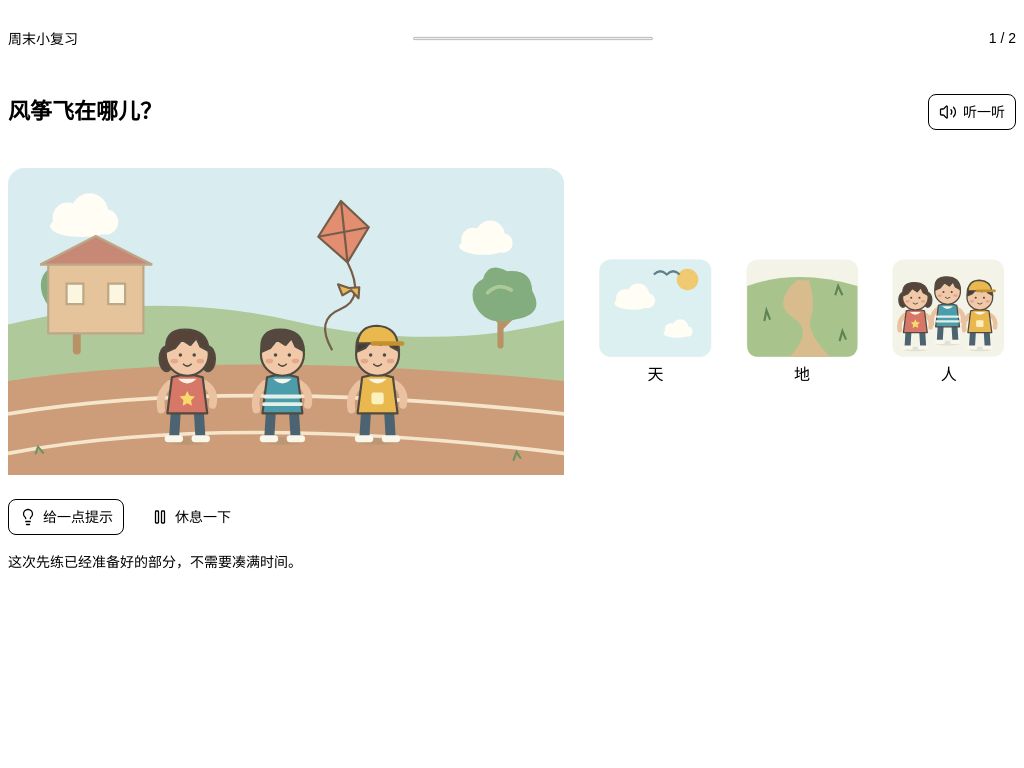
picture-led review state › preserves the idempotency key after a lost answer response
This screenshot has width=1024, height=768.
Click the button "地". click: [802, 321]
box: [735,248,869,395]
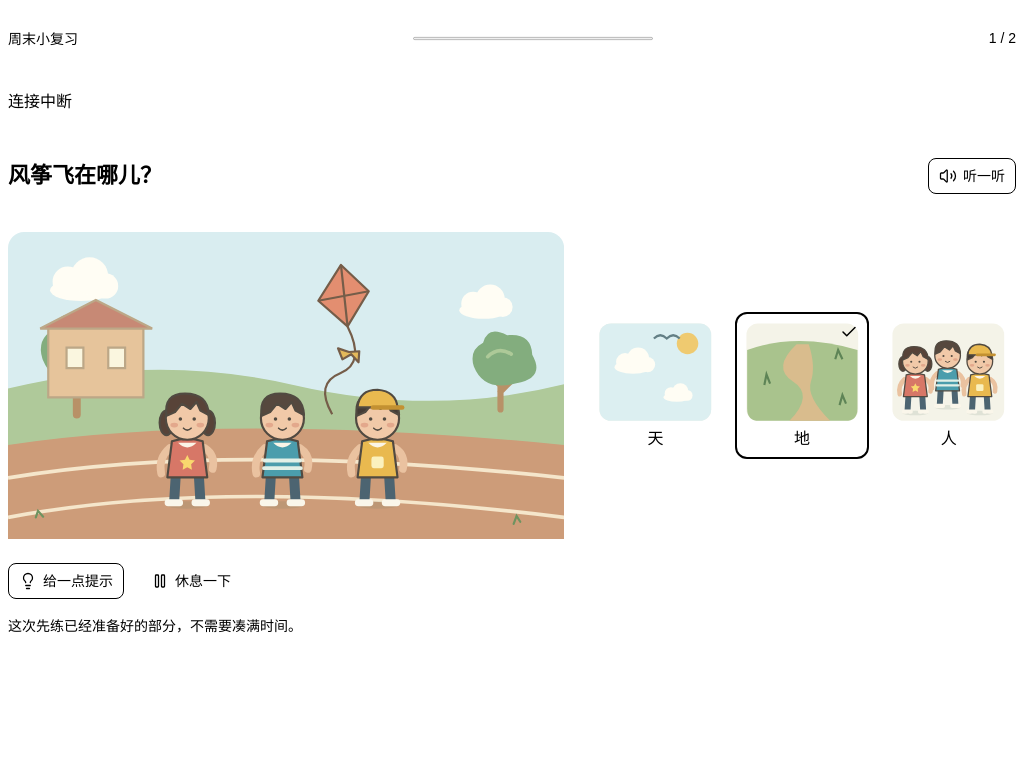
Now the text "连接中断" is shown, box [8,93,72,110]
Click the button "地". click: [802, 385]
box: [735,312,869,459]
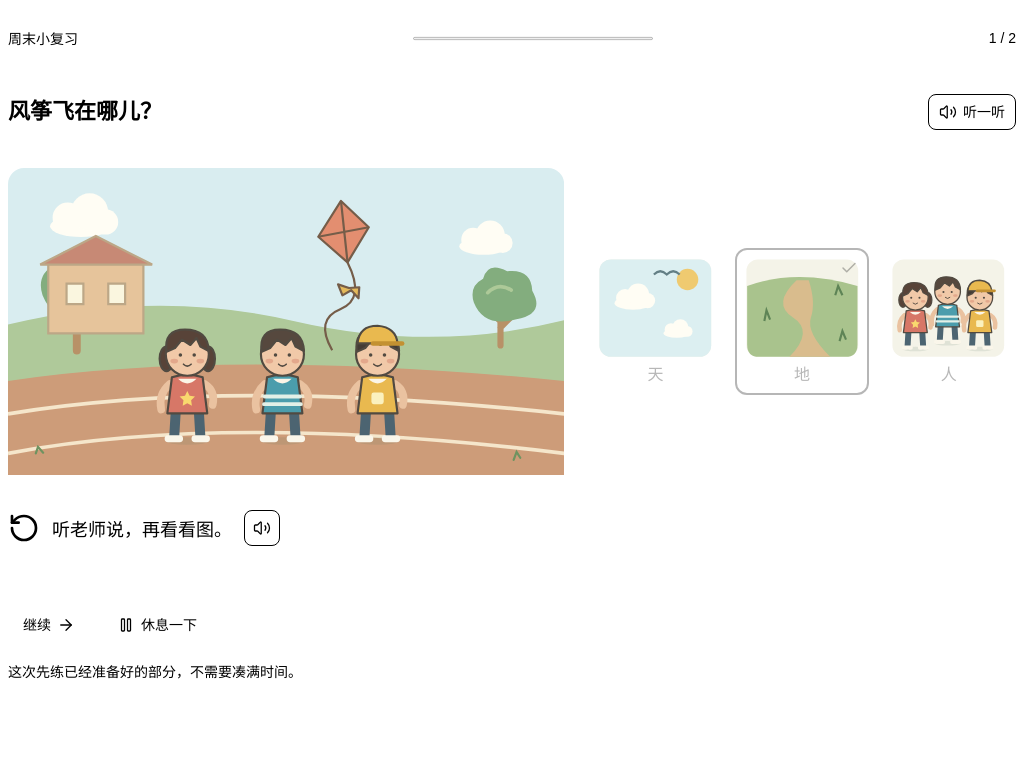
Expected: the button "继续" is enabled, [8,605,90,645]
Now the text "听老师说，再看看图。" is shown, box [52,515,232,541]
Now the button "天" is disabled, box [588,248,723,395]
